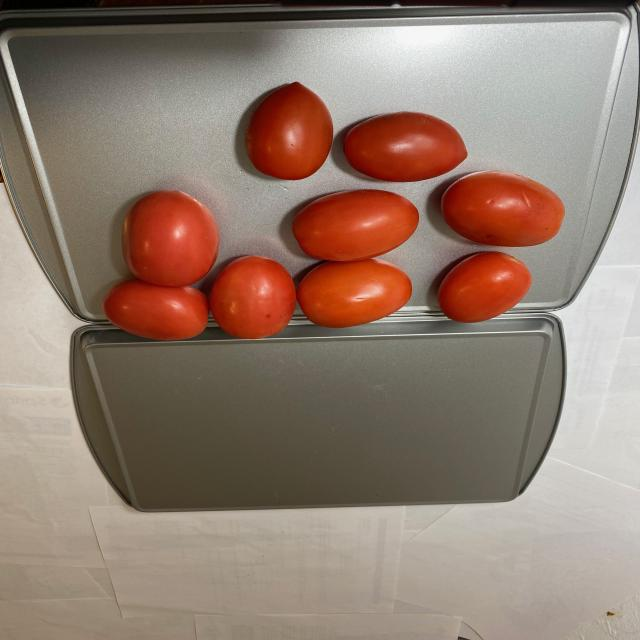tomato: (101, 80, 566, 339)
